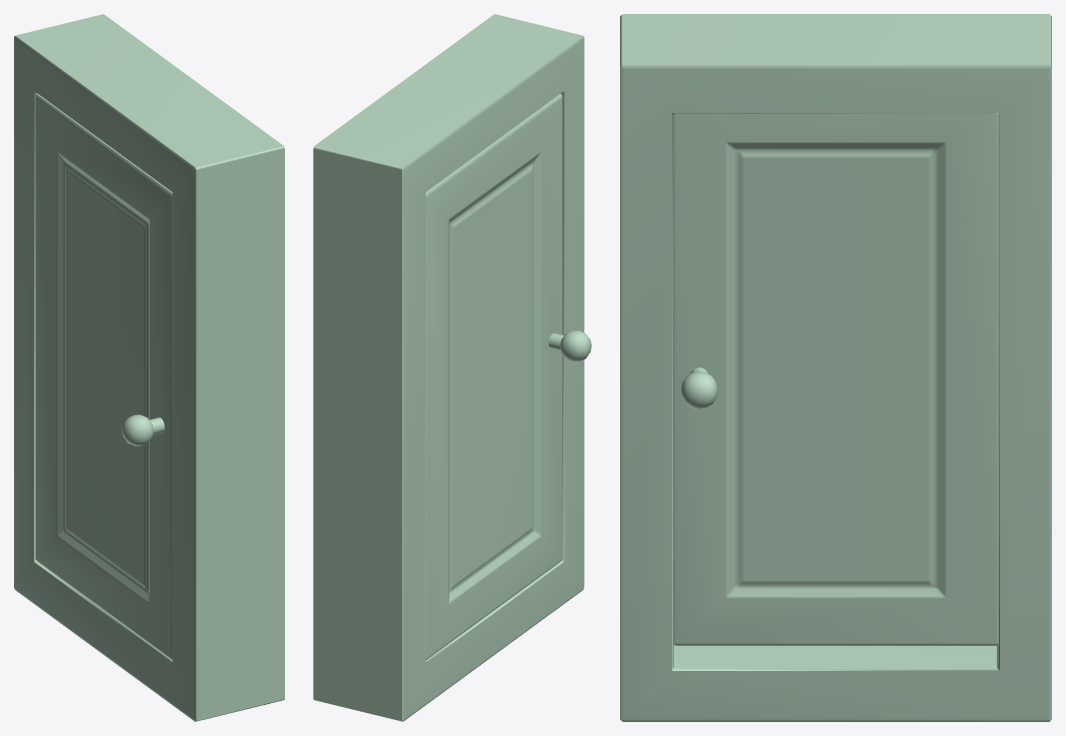
Rendered from doorandFrame.fbx.
The picture shows the model from 3 angles, left to right: view 1: azimuth 30°, elevation 25°; view 2: azimuth 150°, elevation 25°; view 3: azimuth 270°, elevation 25°; orthographic projection. The views are drawn at different scales.
Parts seen in each view (by area): view 1: DoorFrame, DoorInner; view 2: DoorFrame, DoorInner; view 3: DoorInner, DoorFrame.
Part boxes in pixels (bbox=[...]): DoorFrame: bbox=[14, 14, 284, 721]; DoorInner: bbox=[35, 94, 172, 659]; DoorFrame: bbox=[313, 14, 584, 721]; DoorInner: bbox=[425, 94, 591, 659]; DoorInner: bbox=[673, 113, 998, 645]; DoorFrame: bbox=[620, 14, 1051, 721].
Bounding box in the file's own units: 62.28 × 255 × 152.
